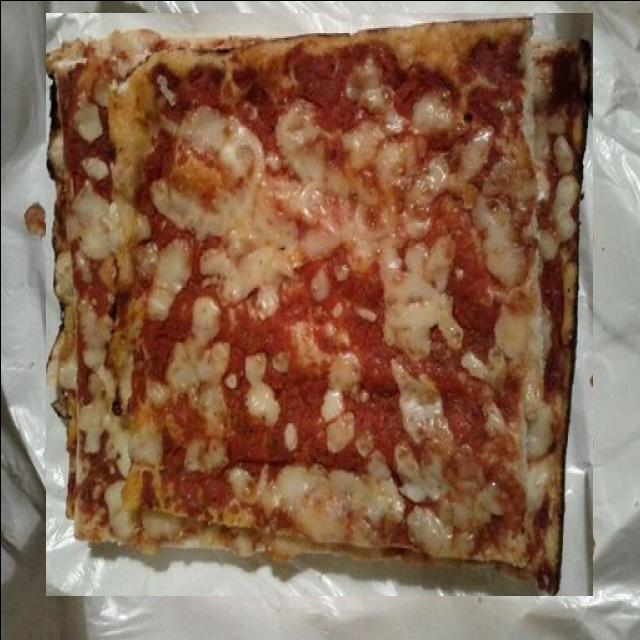pizza: (45, 12, 592, 595)
